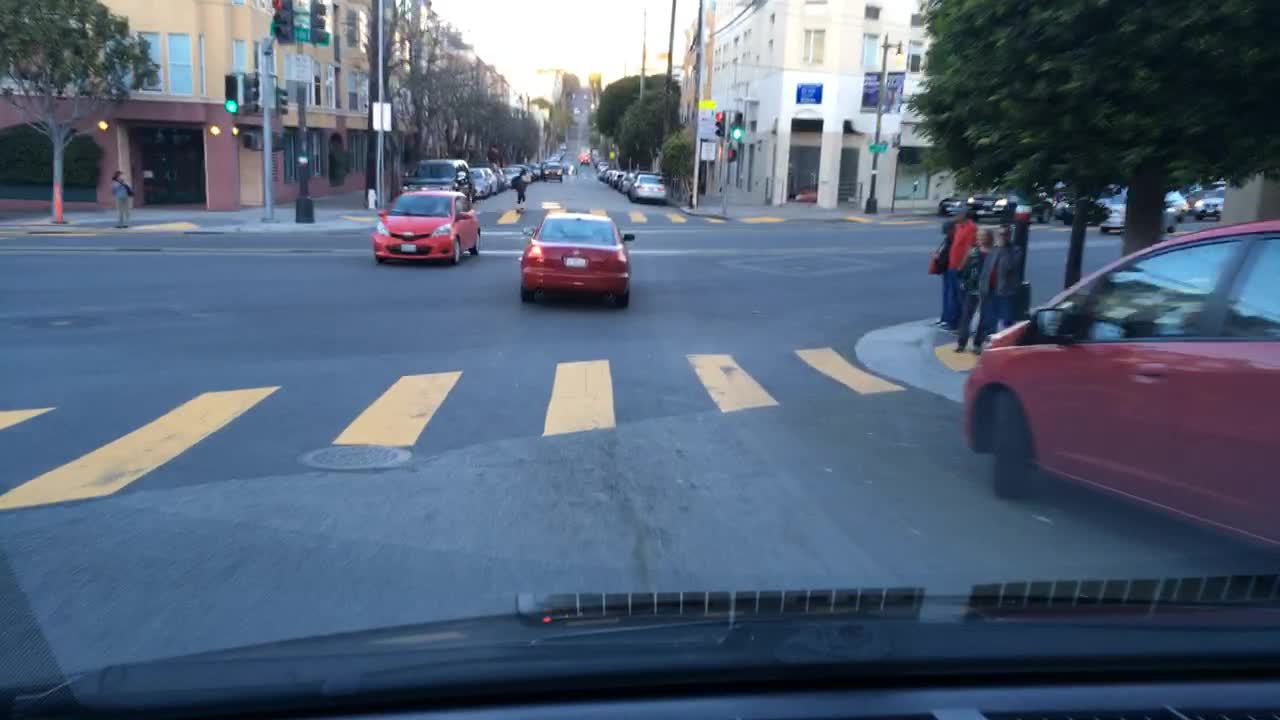car: (958, 219, 1279, 557), (516, 209, 633, 307), (369, 187, 482, 263), (1097, 185, 1179, 231), (400, 157, 472, 199), (972, 185, 1041, 223), (1193, 179, 1228, 219), (467, 155, 504, 191), (626, 172, 665, 204), (1164, 187, 1188, 223), (1049, 194, 1080, 221), (933, 192, 970, 214), (471, 167, 496, 199), (1184, 179, 1205, 212), (792, 182, 818, 202), (499, 165, 520, 187), (543, 160, 565, 179), (516, 164, 537, 182), (609, 169, 629, 187), (616, 174, 636, 192), (606, 165, 619, 184), (594, 160, 609, 175), (564, 159, 577, 175), (531, 164, 543, 179), (597, 165, 607, 180), (592, 155, 606, 165), (535, 157, 548, 165)
person: (970, 223, 1024, 358), (953, 226, 994, 353), (941, 202, 975, 329), (923, 219, 953, 327), (108, 160, 135, 227), (1002, 179, 1032, 226), (509, 164, 528, 214)
traffic light: (270, 0, 293, 44), (307, 0, 329, 42), (222, 72, 239, 115), (243, 74, 260, 110), (273, 86, 292, 113), (729, 110, 744, 140), (242, 132, 263, 149), (712, 110, 725, 135), (272, 133, 285, 149), (725, 145, 735, 162)
traffic sign: (283, 54, 314, 83), (371, 101, 391, 128), (698, 101, 710, 138), (700, 142, 717, 162), (867, 140, 886, 152)
